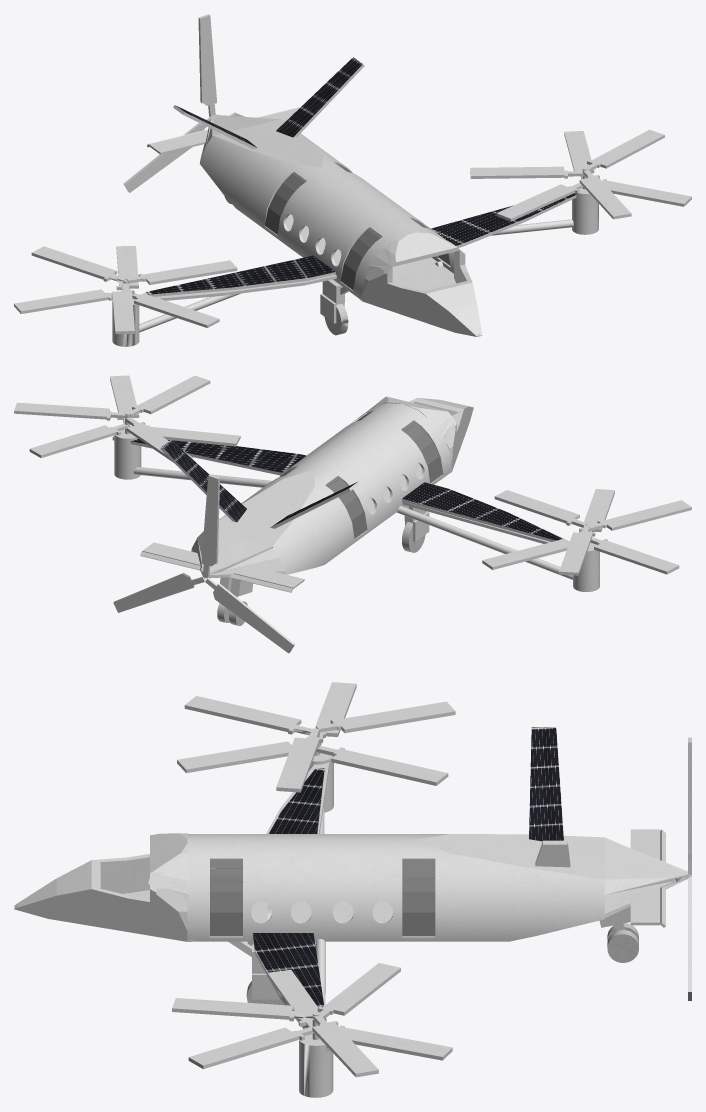
The model's file is my_aircraft.glb.
The picture shows the model from 3 angles, top to bottom: view 1: azimuth 30°, elevation 25°; view 2: azimuth 150°, elevation 25°; view 3: azimuth 270°, elevation 25°; orthographic projection. The views are drawn at different scales.
Parts seen in each view (by area): view 1: Aircraft_Blender; view 2: Aircraft_Blender; view 3: Aircraft_Blender.
Boxes of the visible parts, <box> form: Aircraft_Blender: <box>14,14,691,346</box>; Aircraft_Blender: <box>14,375,691,653</box>; Aircraft_Blender: <box>14,682,691,1097</box>.
Bounding box in the file's own units: 54.96 × 15.09 × 38.91.
7 materials, 7 textured.
